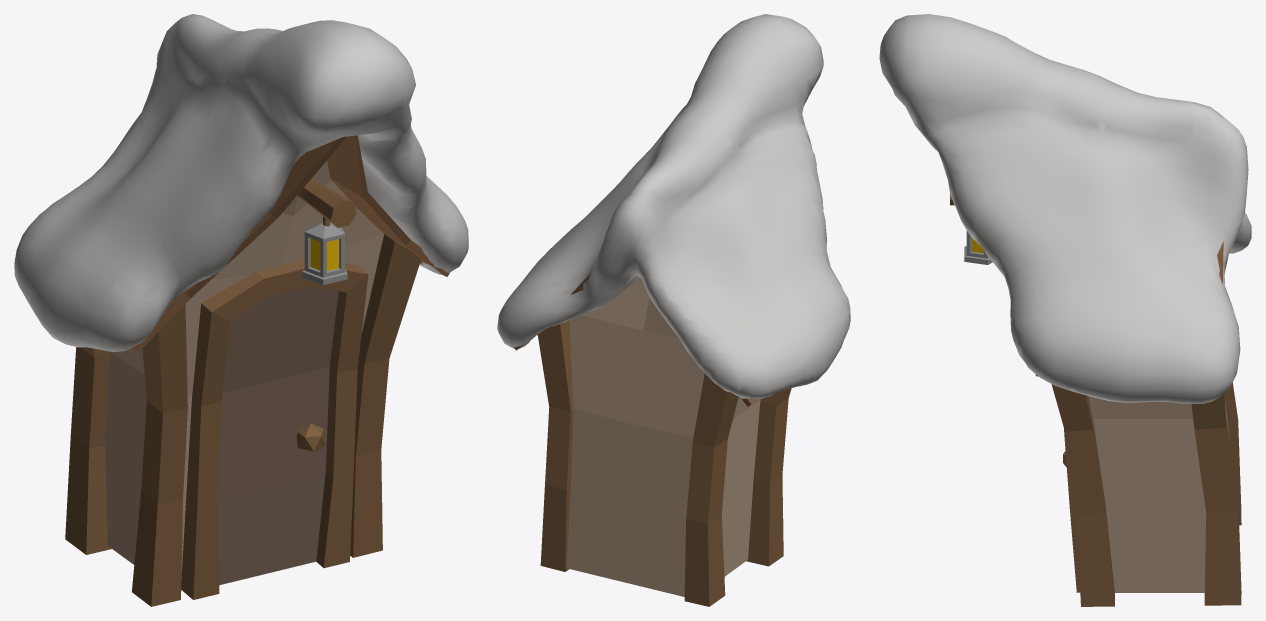
File: Porch_Snow.fbx
3 renders of one model, left to right at view 1: azimuth 30°, elevation 25°; view 2: azimuth 150°, elevation 25°; view 3: azimuth 270°, elevation 25°, orthographic. The views are drawn at different scales.
Parts seen in each view (by area): view 1: Porch_Snow; view 2: Porch_Snow; view 3: Porch_Snow.
Part boxes in pixels (x1,y1,x2,y2): Porch_Snow: (14, 14, 468, 606); Porch_Snow: (497, 14, 850, 606); Porch_Snow: (879, 14, 1251, 606).
Bounding box in the file's own units: 287 × 434 × 272.
